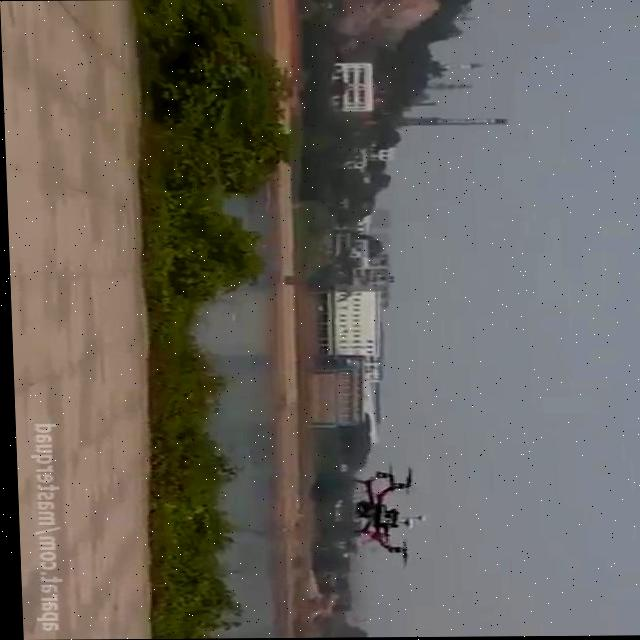drone: (344, 463, 427, 573)
